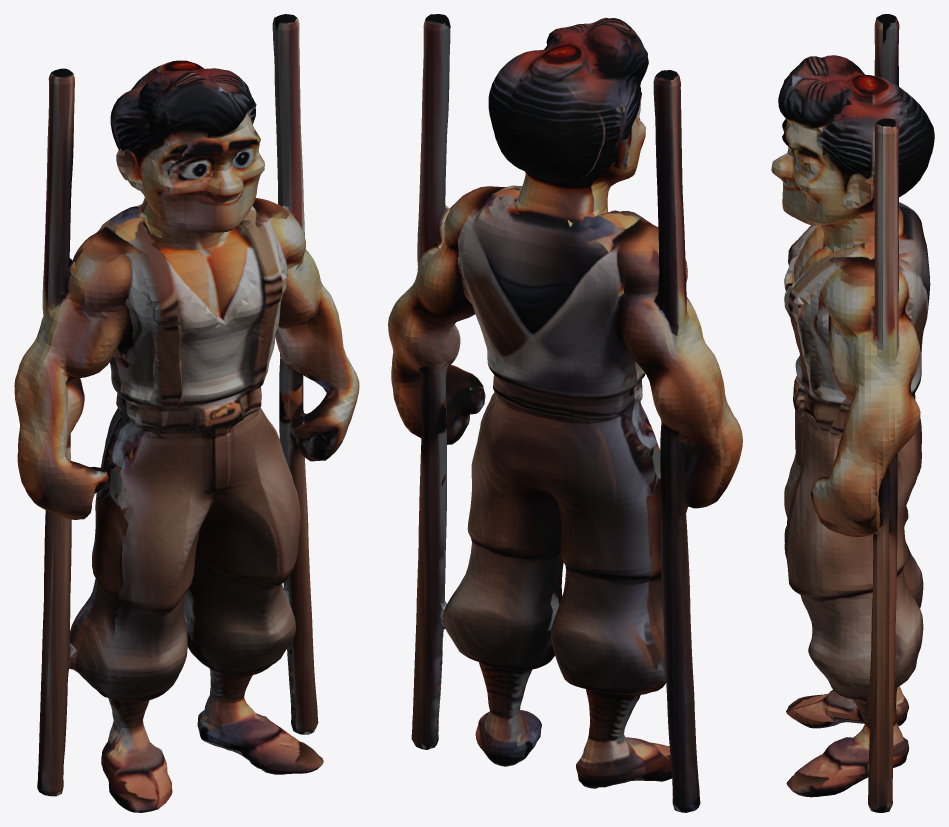
Rendered from body.glb.
The picture shows the model from 3 angles, left to right: view 1: azimuth 30°, elevation 25°; view 2: azimuth 150°, elevation 25°; view 3: azimuth 270°, elevation 25°; orthographic projection. The views are drawn at different scales.
Parts seen in each view (by area): view 1: geometry_0; view 2: geometry_0; view 3: geometry_0.
Part boxes in pixels (x1,y1,x2,y2): geometry_0: [14, 14, 359, 812]; geometry_0: [388, 14, 742, 812]; geometry_0: [771, 14, 934, 812].
Bounding box in the file's own units: 0.9469 × 1.96 × 0.4233.
Materials: 1 (1 with a texture image).
